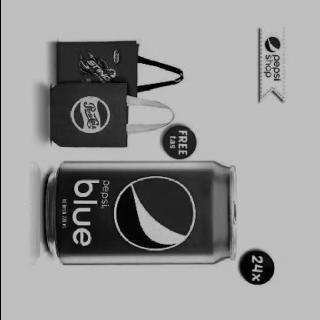alumunium_can: (44, 159, 238, 265)
